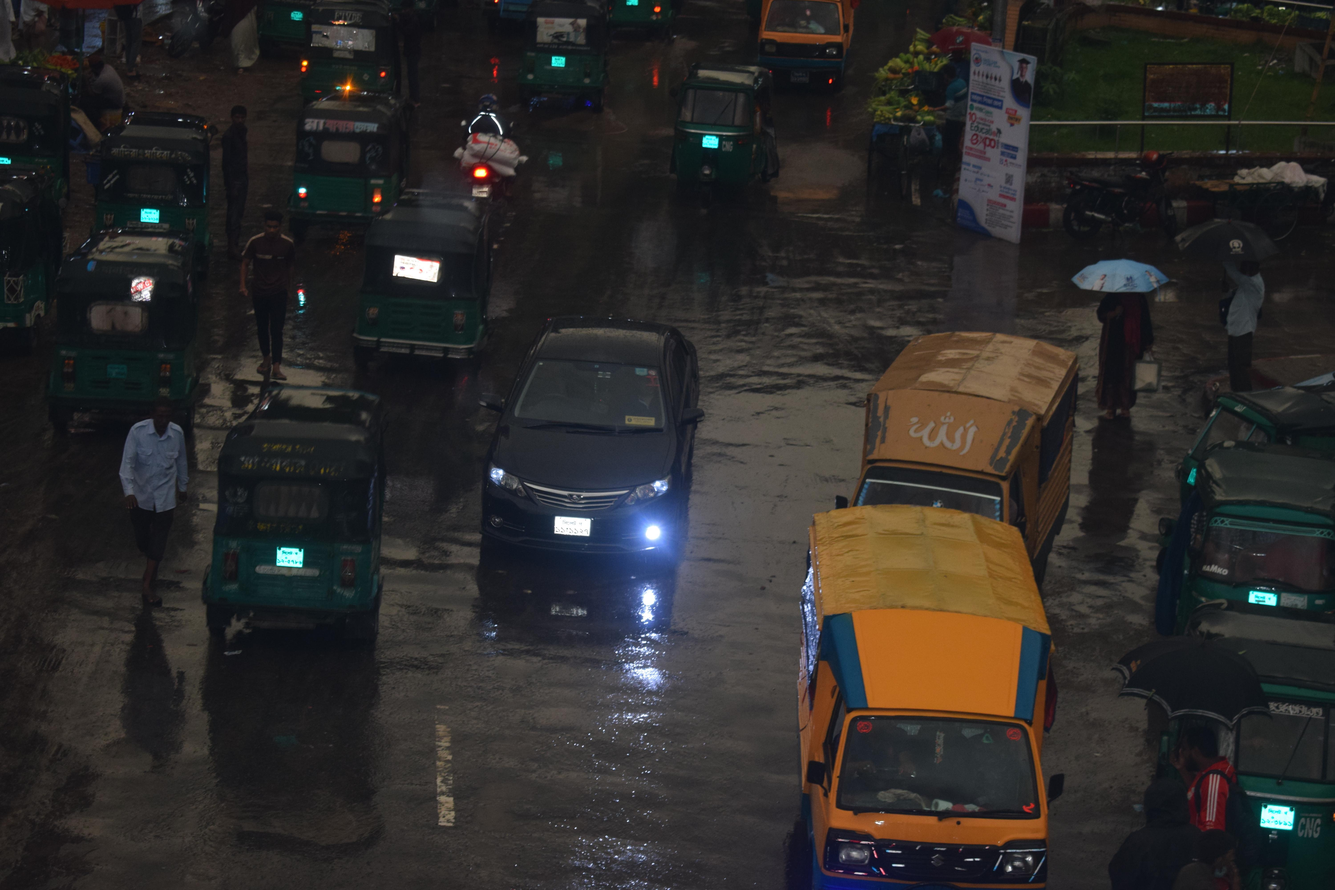Car: (747, 464, 1093, 890), (434, 282, 745, 616), (822, 281, 1101, 598)
